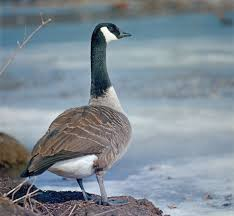goose: (20, 20, 137, 207)
